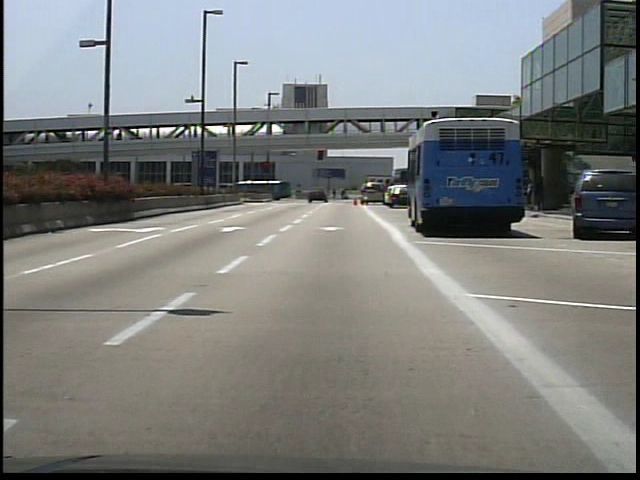person: (533, 175, 548, 211), (340, 186, 352, 201), (333, 186, 334, 202)
